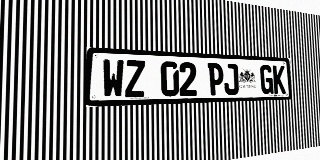0: (160, 61, 179, 97)
2: (179, 62, 197, 96)
G: (260, 65, 273, 94)
J: (223, 63, 239, 95)
K: (273, 65, 286, 94)
P: (208, 63, 224, 95)
W: (102, 59, 124, 98)
Z: (125, 60, 145, 98)
